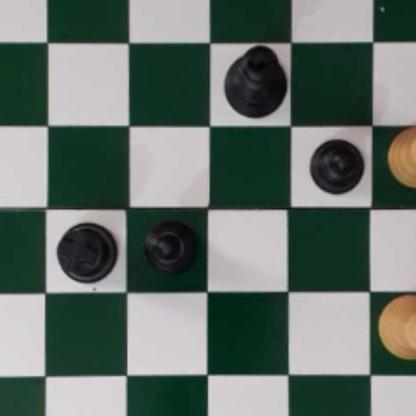black-king: (222, 42, 290, 115)
black-pawn: (307, 136, 366, 194), (139, 217, 196, 275)
black-rook: (55, 222, 119, 282)
white-bishop: (386, 124, 416, 189)
white-king: (376, 294, 416, 361)
